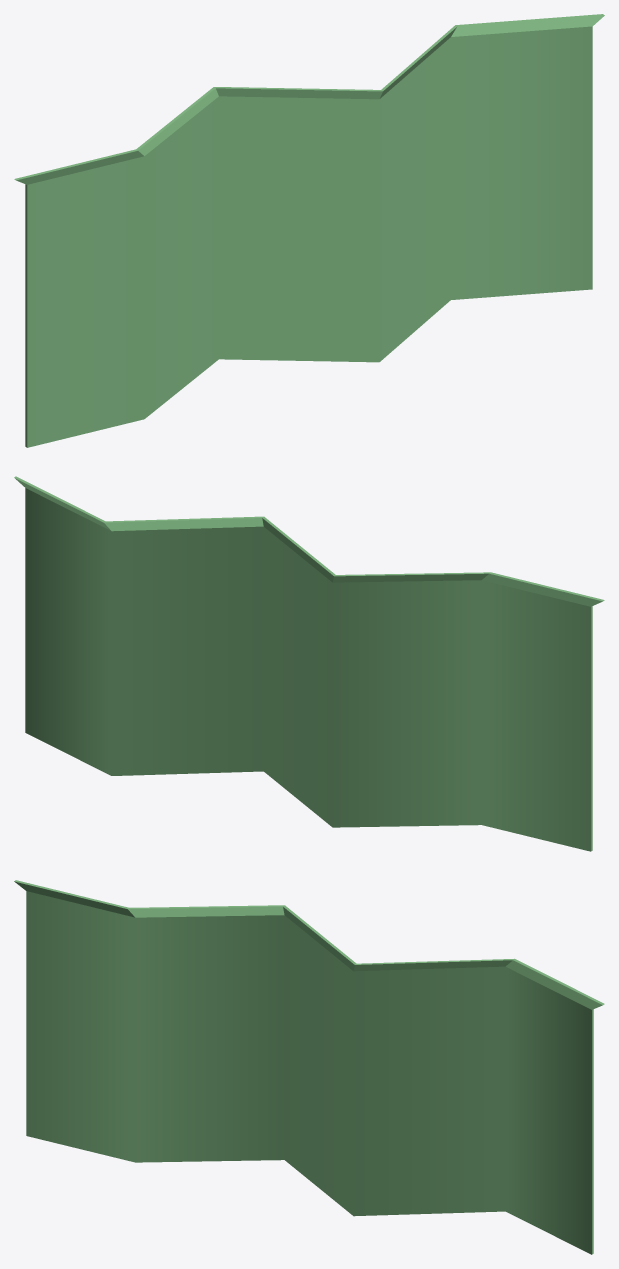
The model's file is GreenScreen.fbx.
3 views of the same model, one above another, from view 1: azimuth 30°, elevation 25°; view 2: azimuth 150°, elevation 25°; view 3: azimuth 330°, elevation 25° (orthographic). The views are drawn at different scales.
Visible parts, largest first — view 1: pasted__pCube11; view 2: pasted__pCube11; view 3: pasted__pCube11.
Part boxes in pixels (box(x1,y1,x2,y2)): pasted__pCube11: box(14, 14, 604, 447); pasted__pCube11: box(14, 476, 604, 851); pasted__pCube11: box(14, 880, 604, 1254).
Bounding box in the file's own units: 7.29 × 3.09 × 1.03.
